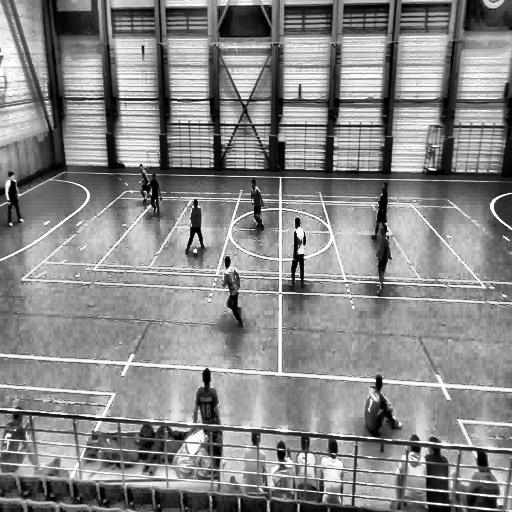ball: (190, 248, 200, 257)
player: (364, 375, 403, 453), (390, 437, 430, 510), (194, 367, 222, 450), (221, 256, 244, 332), (288, 218, 307, 290), (374, 221, 390, 295), (185, 198, 206, 254), (370, 178, 388, 242), (6, 171, 24, 225), (251, 178, 266, 230), (136, 162, 152, 207), (149, 172, 162, 216)
